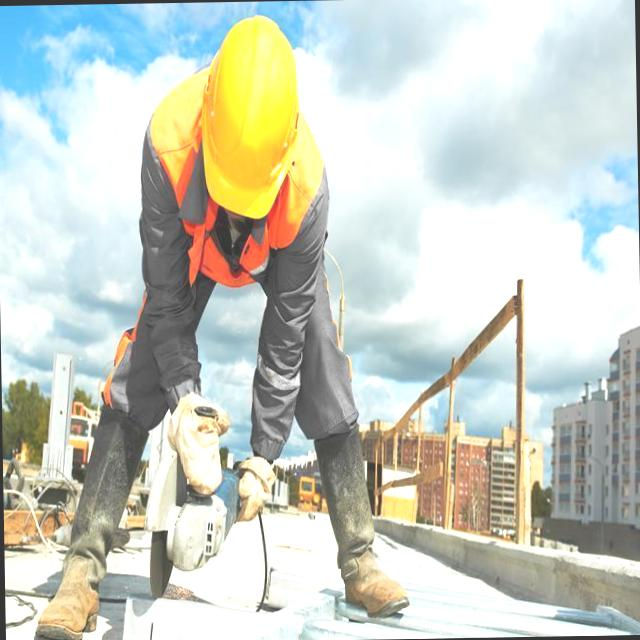boots: (29, 402, 154, 640), (311, 424, 411, 620)
gloves: (229, 435, 282, 541), (170, 390, 222, 494)
helmet: (198, 13, 302, 219)
vest: (148, 66, 326, 291)
